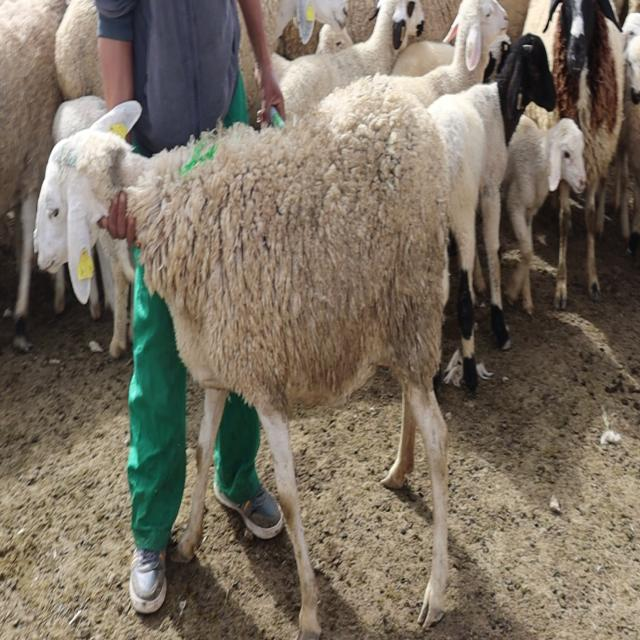Score_2: (34, 76, 449, 639)
